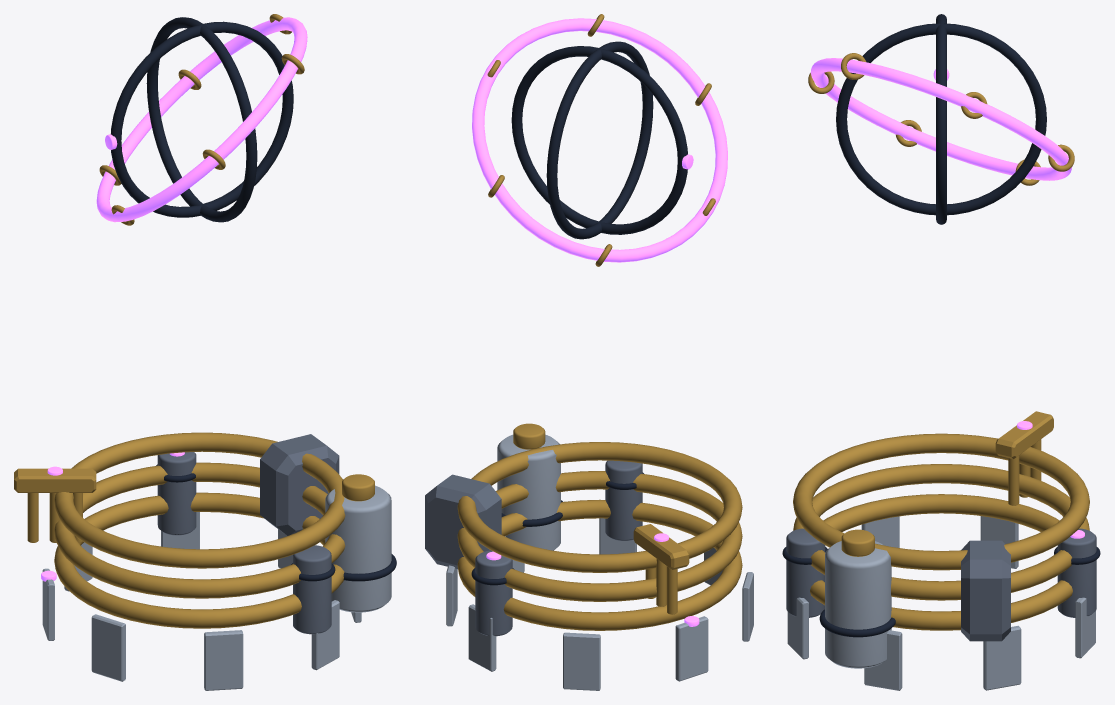
Rendered from tower_singularity_rate_s9.glb.
3 renders of one model, left to right at view 1: azimuth 30°, elevation 25°; view 2: azimuth 150°, elevation 25°; view 3: azimuth 270°, elevation 25°, orthographic. The views are drawn at different scales.
Visible parts, largest first — view 1: singularity_stem_coil2, singularity_stem_coil1, singularity_stem_coil0, singularity_halo_b_ring, singularity_coolant_tank, singularity_core_cage_b, singularity_stem_junction, singularity_core_cage_c, singularity_stem_cap4.363323129985824, singularity_stem_cap1.9198621771937625, singularity_stem_fin6, singularity_stem_fin7 (+6 smaller); view 2: singularity_stem_coil2, singularity_halo_b_ring, singularity_stem_coil1, singularity_stem_coil0, singularity_core_cage_b, singularity_core_cage_c, singularity_coolant_tank, singularity_stem_junction, singularity_stem_cap1.9198621771937625, singularity_stem_cap4.363323129985824, singularity_stem_fin1, singularity_stem_fin0 (+7 smaller); view 3: singularity_stem_coil2, singularity_stem_coil1, singularity_stem_coil0, singularity_coolant_tank, singularity_halo_b_ring, singularity_core_cage_c, singularity_stem_junction, singularity_stem_cap4.363323129985824, singularity_stem_cap1.9198621771937625, singularity_core_cage_b, singularity_stem_fin3, singularity_manifold_header (+8 smaller).
Boxes of the visible parts, x1=… form: singularity_stem_coil2: x1=54, y1=432, x2=345, y2=568; singularity_stem_coil1: x1=54, y1=462, x2=345, y2=598; singularity_stem_coil0: x1=54, y1=492, x2=344, y2=628; singularity_halo_b_ring: x1=96, y1=17, x2=307, y2=222; singularity_coolant_tank: x1=325, y1=485, x2=391, y2=612; singularity_core_cage_b: x1=111, y1=21, x2=293, y2=217; singularity_stem_junction: x1=260, y1=434, x2=339, y2=535; singularity_core_cage_c: x1=146, y1=17, x2=257, y2=222; singularity_stem_cap4.363323129985824: x1=293, y1=545, x2=331, y2=634; singularity_stem_cap1.9198621771937625: x1=157, y1=452, x2=196, y2=535; singularity_stem_fin6: x1=204, y1=630, x2=243, y2=690; singularity_stem_fin7: x1=91, y1=614, x2=125, y2=681; singularity_stem_coil2: x1=457, y1=442, x2=742, y2=572; singularity_halo_b_ring: x1=472, y1=18, x2=727, y2=262; singularity_stem_coil1: x1=457, y1=471, x2=742, y2=601; singularity_stem_coil0: x1=457, y1=499, x2=742, y2=630; singularity_core_cage_b: x1=511, y1=46, x2=687, y2=234; singularity_core_cage_c: x1=546, y1=41, x2=653, y2=239; singularity_coolant_tank: x1=497, y1=434, x2=560, y2=550; singularity_stem_junction: x1=425, y1=474, x2=501, y2=568; singularity_stem_cap1.9198621771937625: x1=475, y1=550, x2=512, y2=636; singularity_stem_cap4.363323129985824: x1=605, y1=460, x2=642, y2=540; singularity_stem_fin1: x1=563, y1=632, x2=600, y2=690; singularity_stem_fin0: x1=675, y1=616, x2=708, y2=681; singularity_stem_coil2: x1=793, y1=433, x2=1089, y2=570; singularity_stem_coil1: x1=793, y1=464, x2=1089, y2=600; singularity_stem_coil0: x1=810, y1=494, x2=1072, y2=630; singularity_coolant_tank: x1=825, y1=541, x2=891, y2=668; singularity_halo_b_ring: x1=810, y1=58, x2=1071, y2=180; singularity_core_cage_c: x1=836, y1=23, x2=1046, y2=215; singularity_stem_junction: x1=961, y1=540, x2=1010, y2=641; singularity_stem_cap4.363323129985824: x1=786, y1=528, x2=825, y2=617; singularity_stem_cap1.9198621771937625: x1=1057, y1=528, x2=1096, y2=617; singularity_core_cage_b: x1=936, y1=14, x2=946, y2=224; singularity_stem_fin3: x1=983, y1=625, x2=1021, y2=690; singularity_manifold_header: x1=995, y1=411, x2=1053, y2=459.
Bounding box in the file's own units: 1.22 × 2.39 × 1.15.
